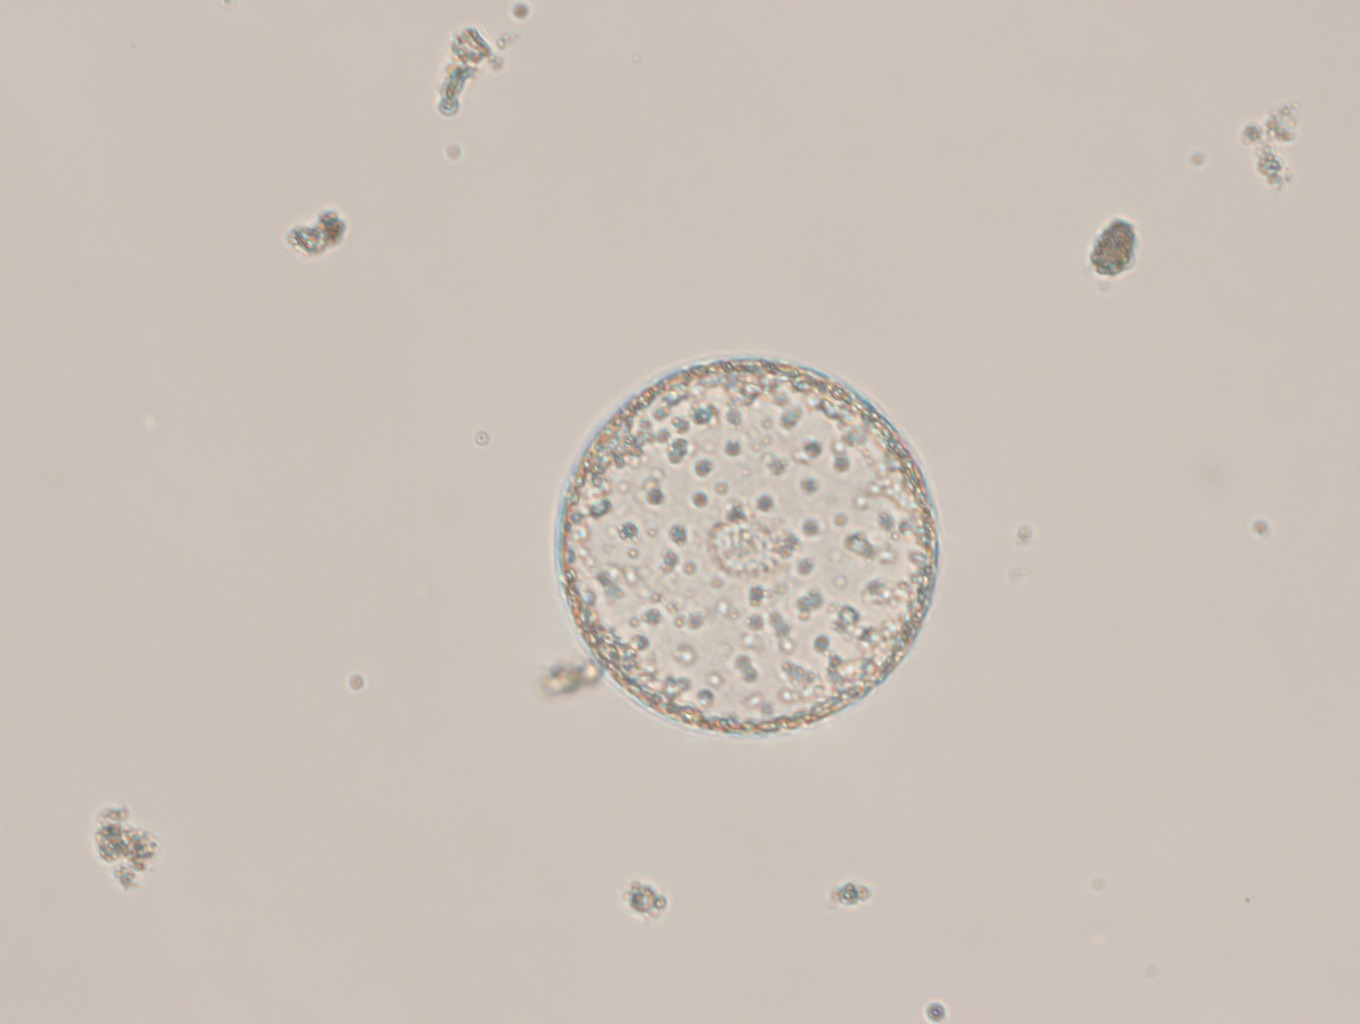coscinodiscus: (555, 356, 941, 736)
